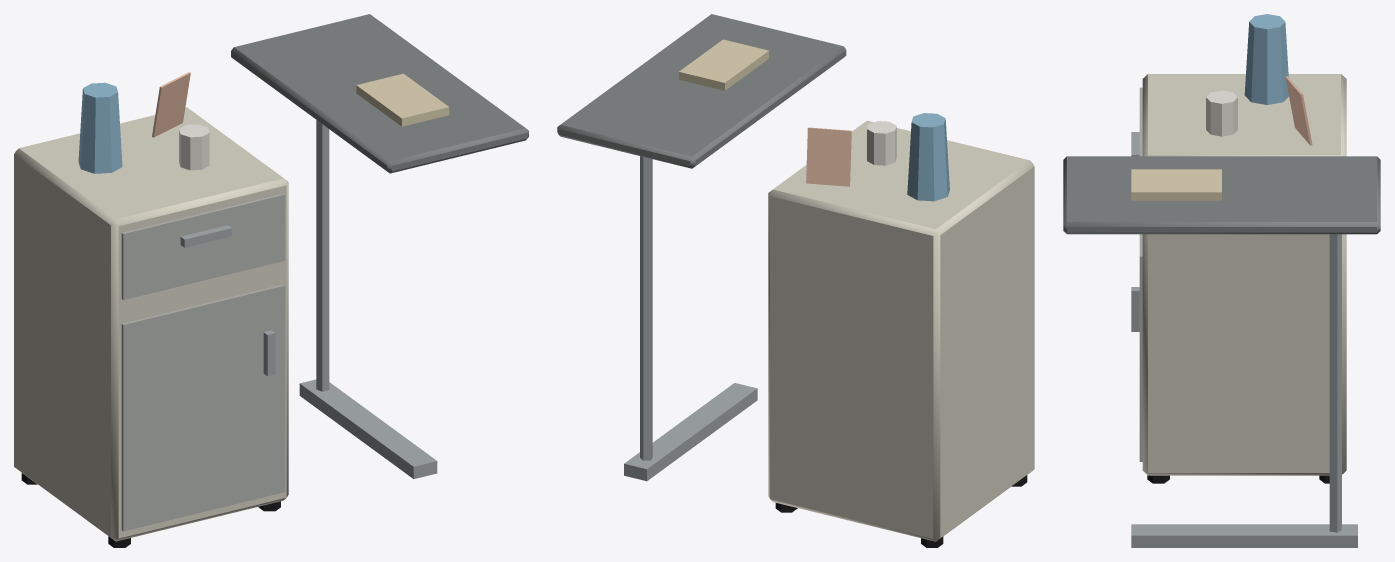
File: bedside_cabinet.glb
3 views of the same model, side by side, from view 1: azimuth 30°, elevation 25°; view 2: azimuth 150°, elevation 25°; view 3: azimuth 270°, elevation 25° (orthographic). The views are drawn at different scales.
Visible parts, largest first — view 1: Bedside; view 2: Bedside; view 3: Bedside.
Boxes of the visible parts, box(x1,y1,x2,y2) form: Bedside: box(14, 14, 528, 547); Bedside: box(557, 14, 1034, 547); Bedside: box(1063, 14, 1380, 547).
Bounding box in the file's own units: 0.955 × 0.98 × 0.7.
